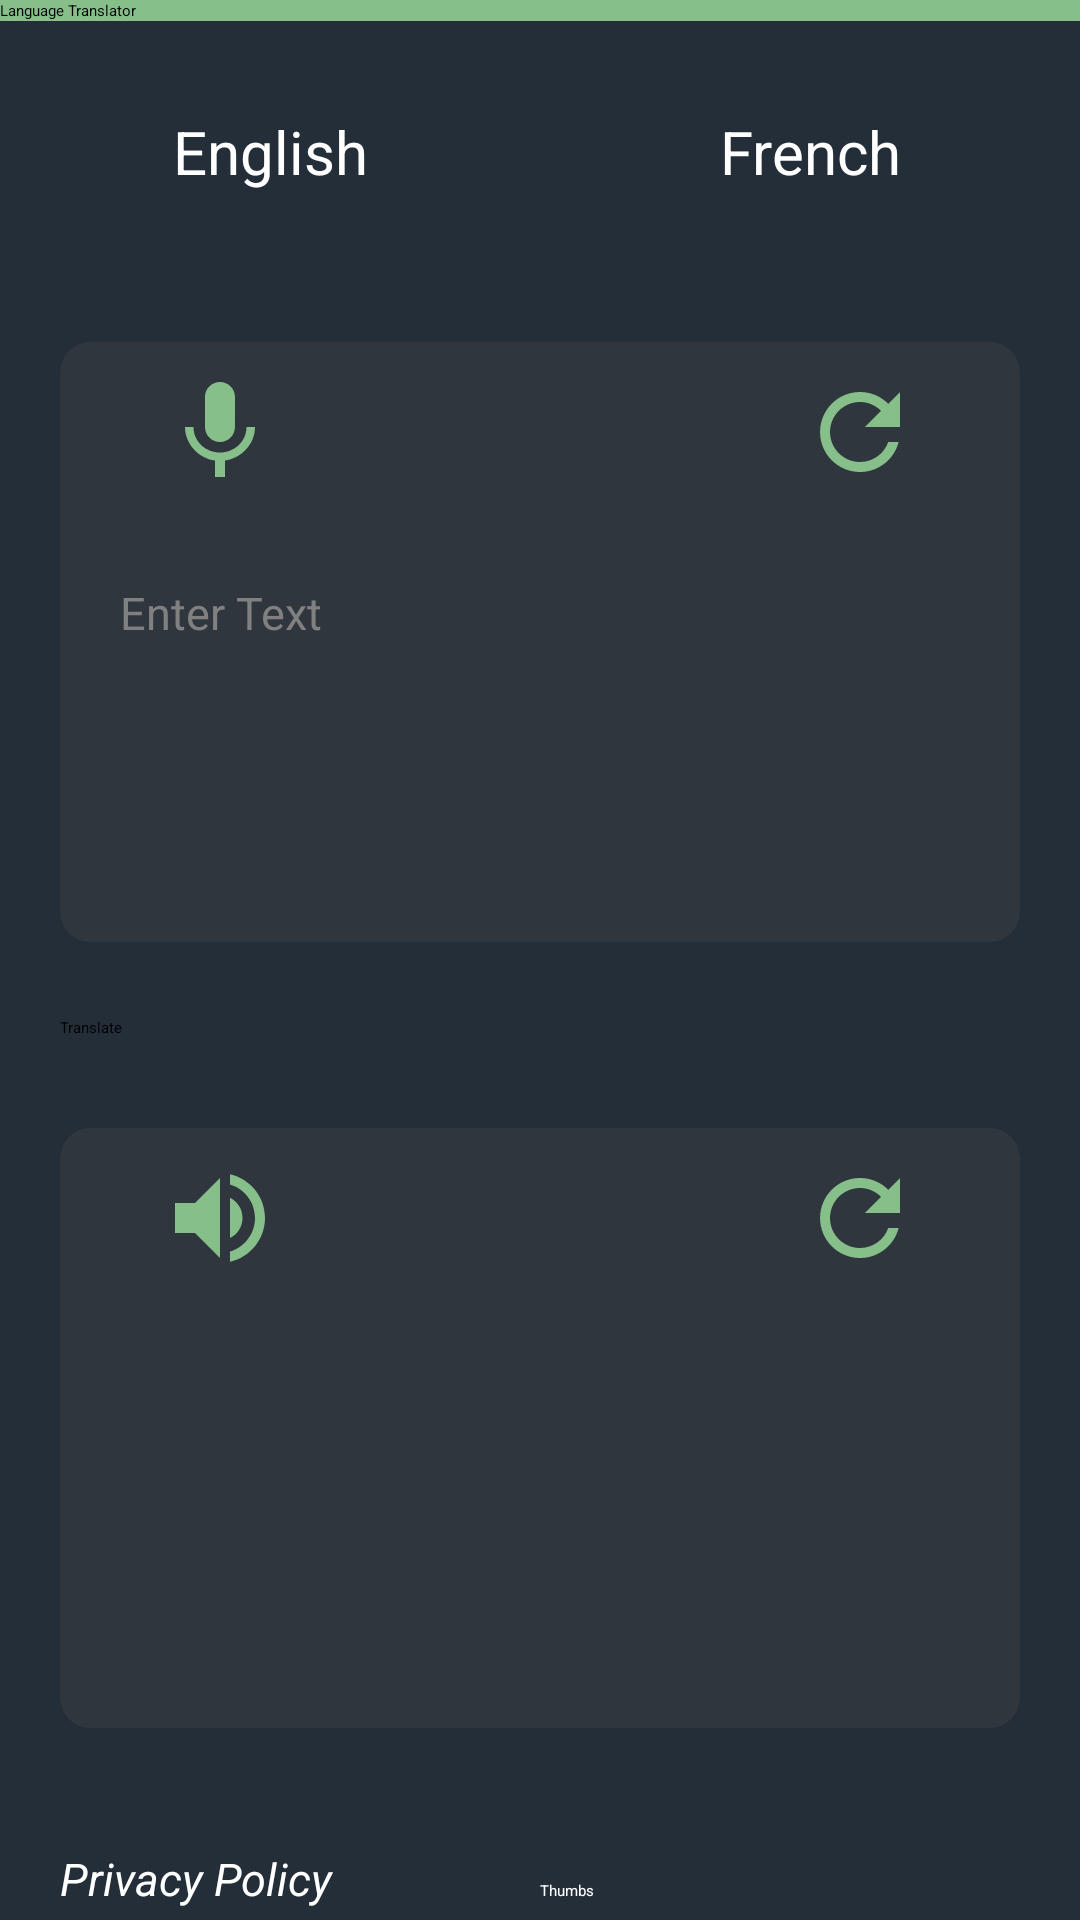

Locate icon controls on the screen. Image size 1080px x 1920px, boxes as (x1, y1, x2, y2).
mic: (185, 382, 255, 477)
refresh: (820, 392, 900, 472), (820, 1178, 900, 1258)
volume up: (175, 1174, 265, 1262)
